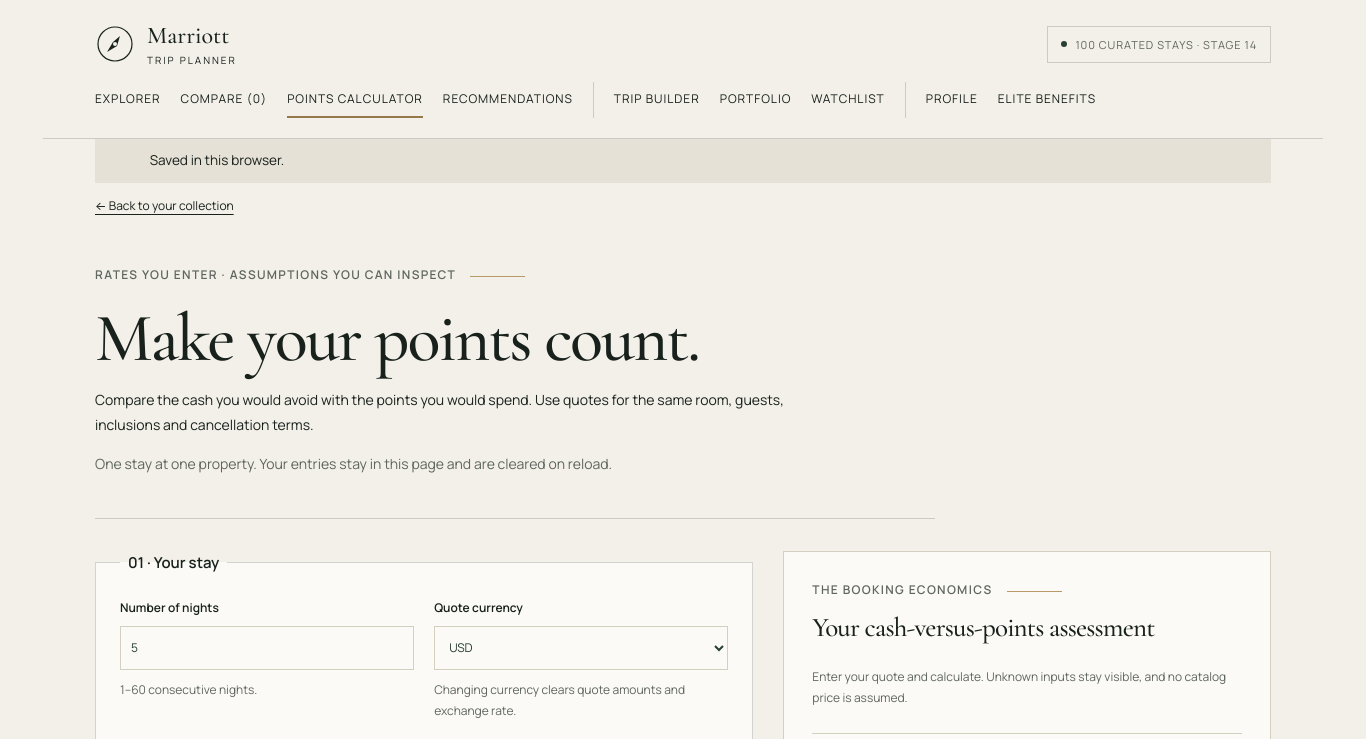
Test: Manual points calculator UI › renders validation errors and clears all entries on reset
Replace the text in the number field labelled "Number of nights" with "61" at (267, 648), box top-left (120, 626), bottom-right (414, 670)
(page scrolled)
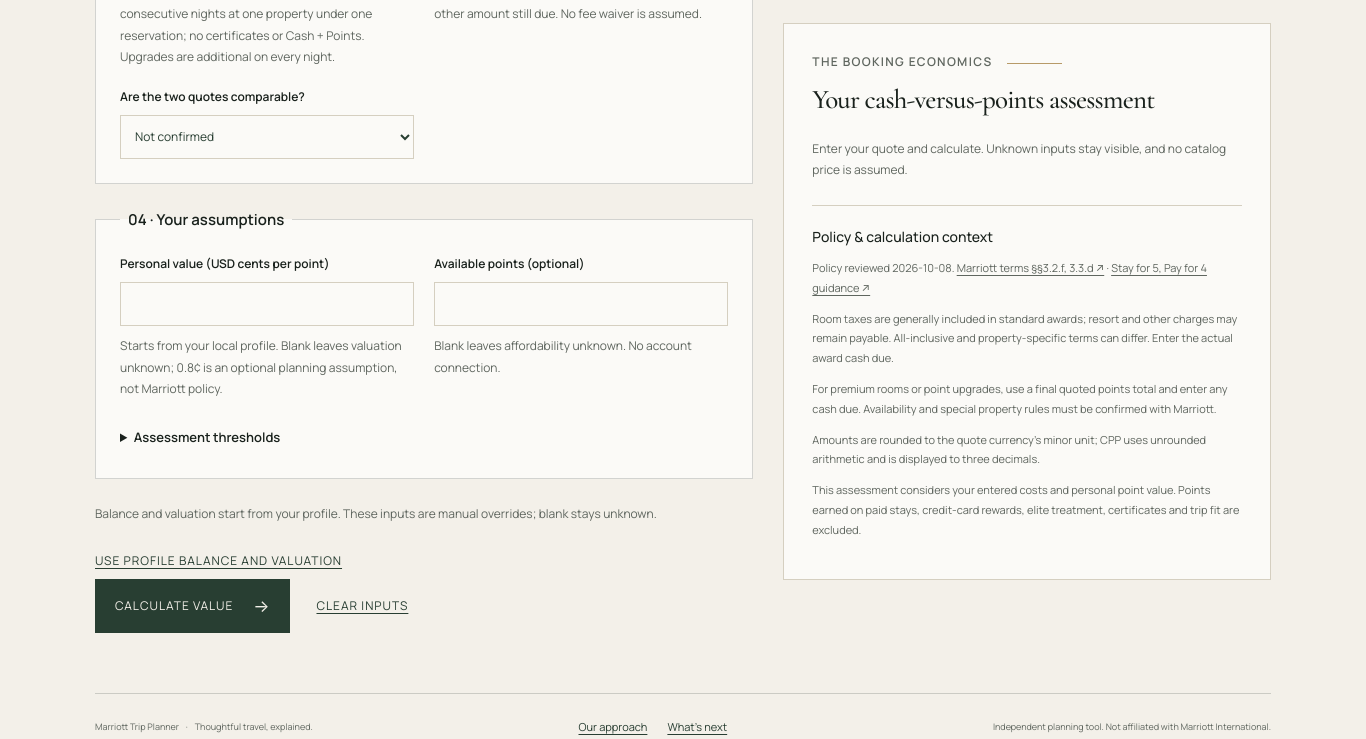
Click the button "Calculate value →" at (193, 606), box top-left (95, 579), bottom-right (290, 633)
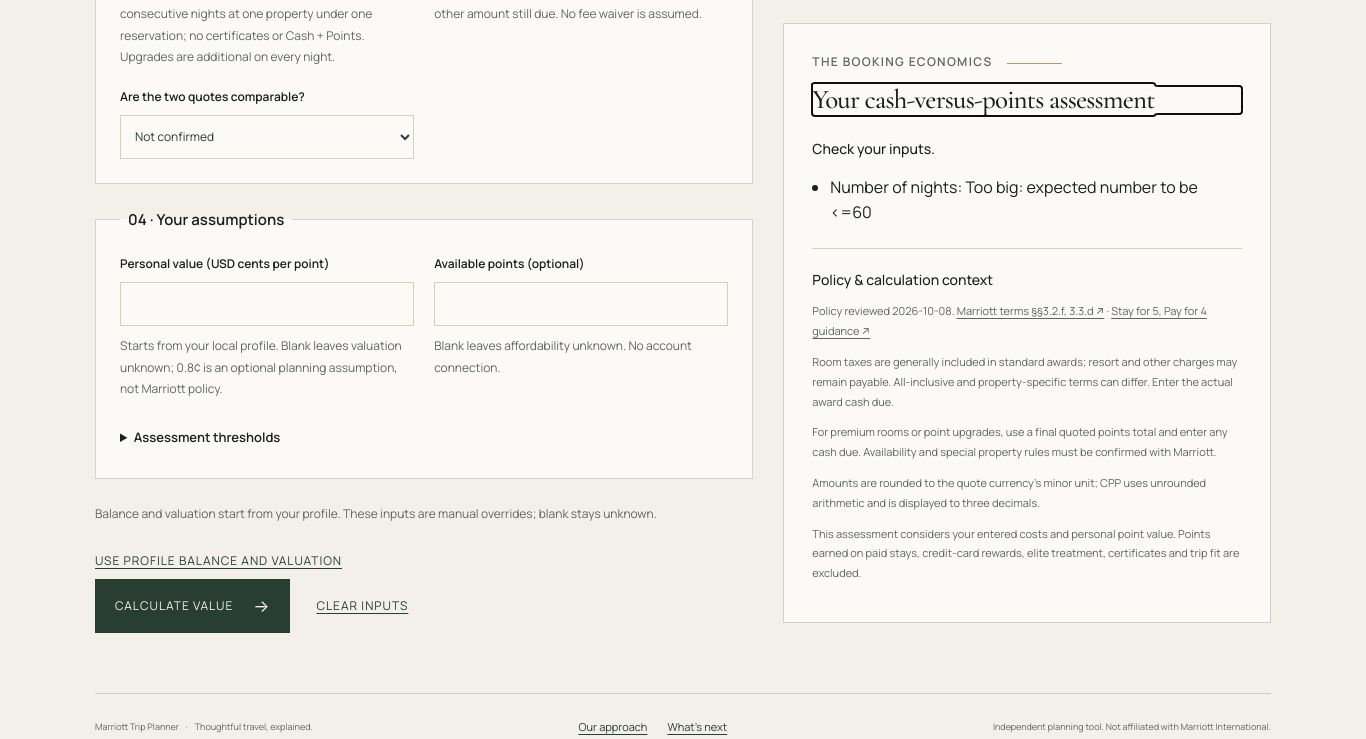
Result: the message shows "nights" at top-left (830, 176), bottom-right (1198, 222)
Click the button "Clear inputs" at (362, 606), box top-left (316, 589), bottom-right (408, 624)
(page scrolled)
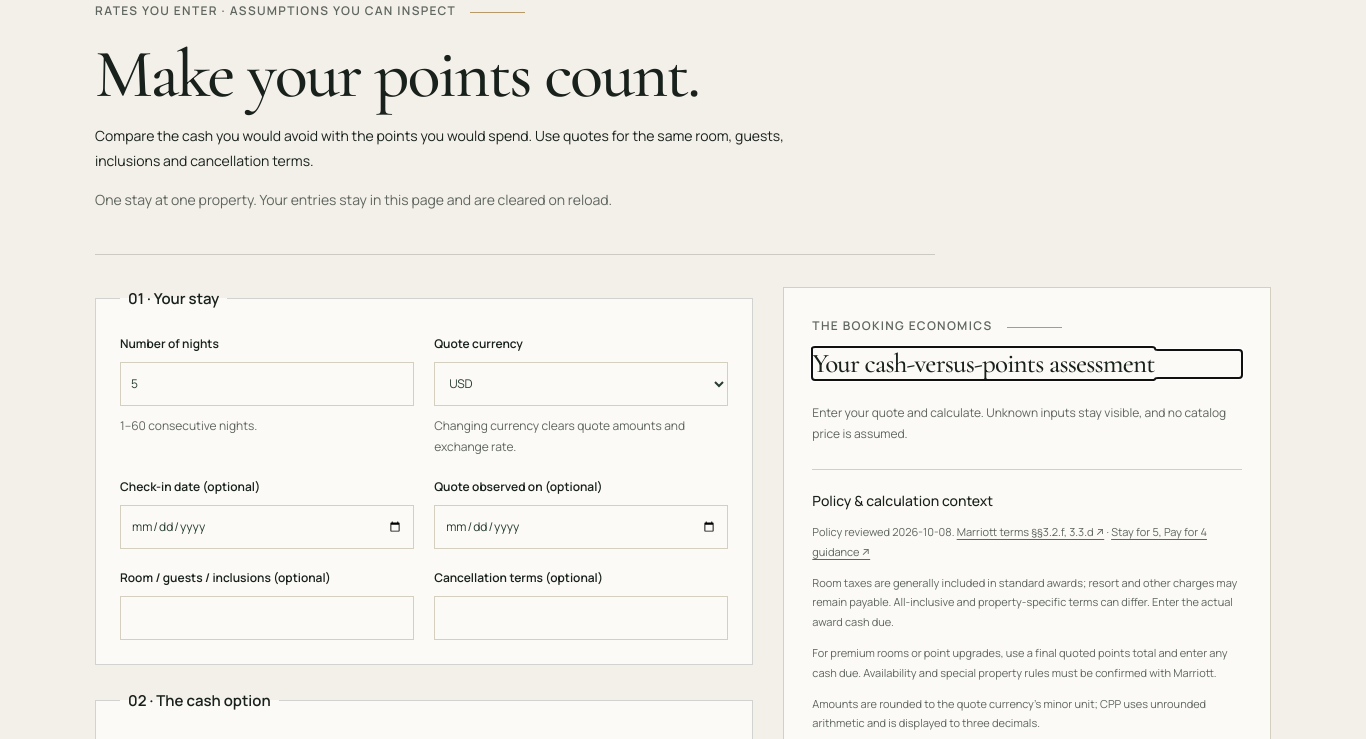
Result: the message "Check your inputs. Number of nights: Too big: expected number to be <=60" is gone
Result: the number field labelled "Number of nights" holds "5" at top-left (120, 362), bottom-right (414, 406)
